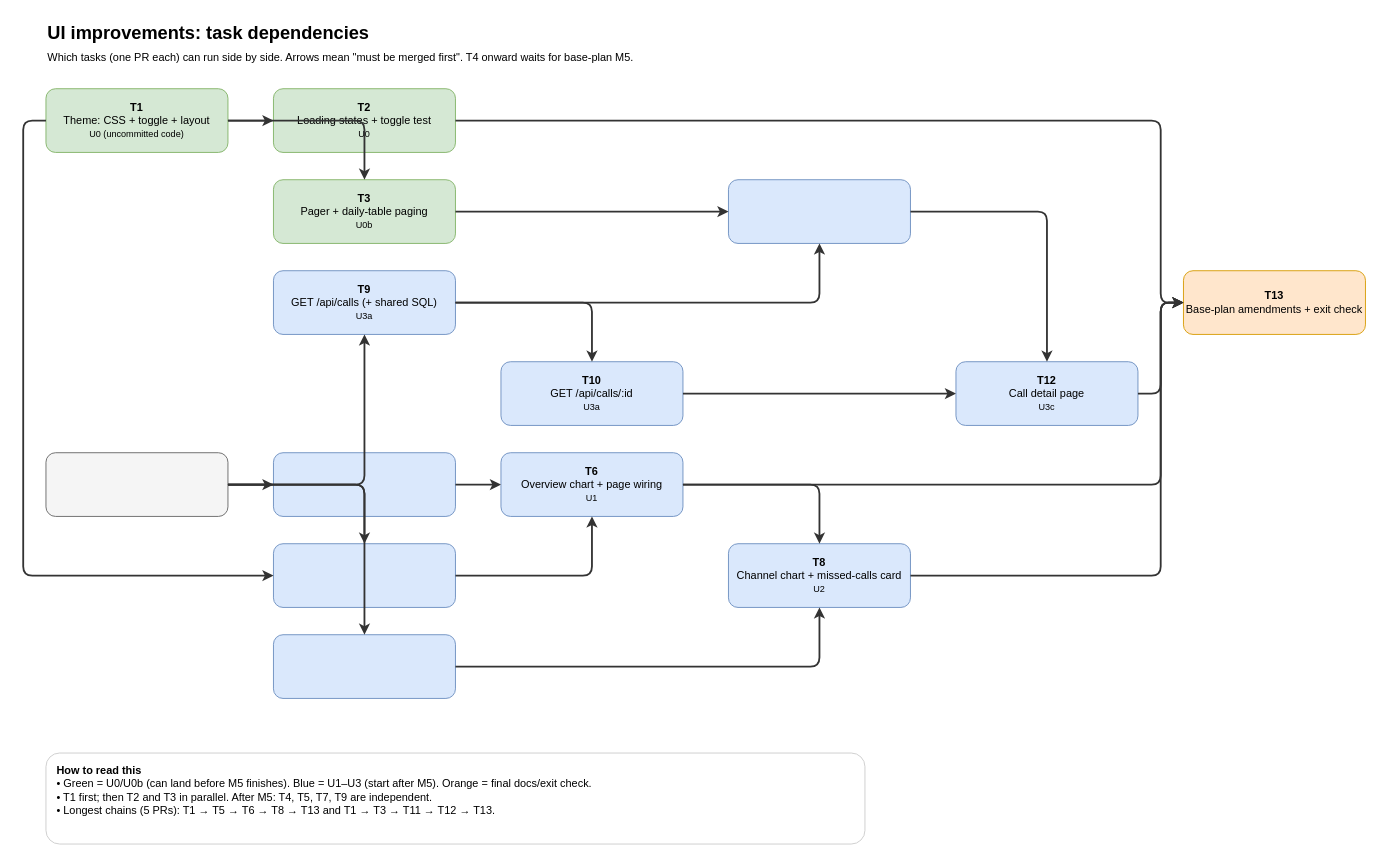
The diagram is 1381 pixels wide and 860 high, and some of its shapes have lost their labels. The box of each missing label's shape, as (x1, y1, x2, y2) in pixels:
M5 Docs complete gate for T4 onward: (45, 452, 228, 516)
T11 Calls list (campaign + none pages) U3b: (728, 179, 910, 243)
T4 GET /api/daily U1 backend: (273, 452, 455, 516)
T5 KPI cards U1: (273, 543, 455, 607)
T7 Totals missed/voicemail + channel_breakdown U2 backend: (273, 634, 455, 698)
